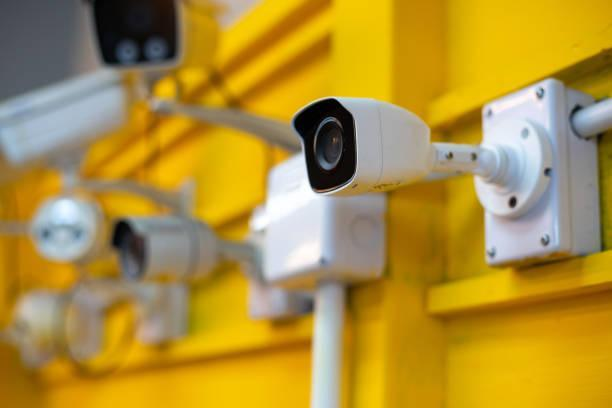camera: (283, 76, 444, 215), (100, 203, 244, 312)
